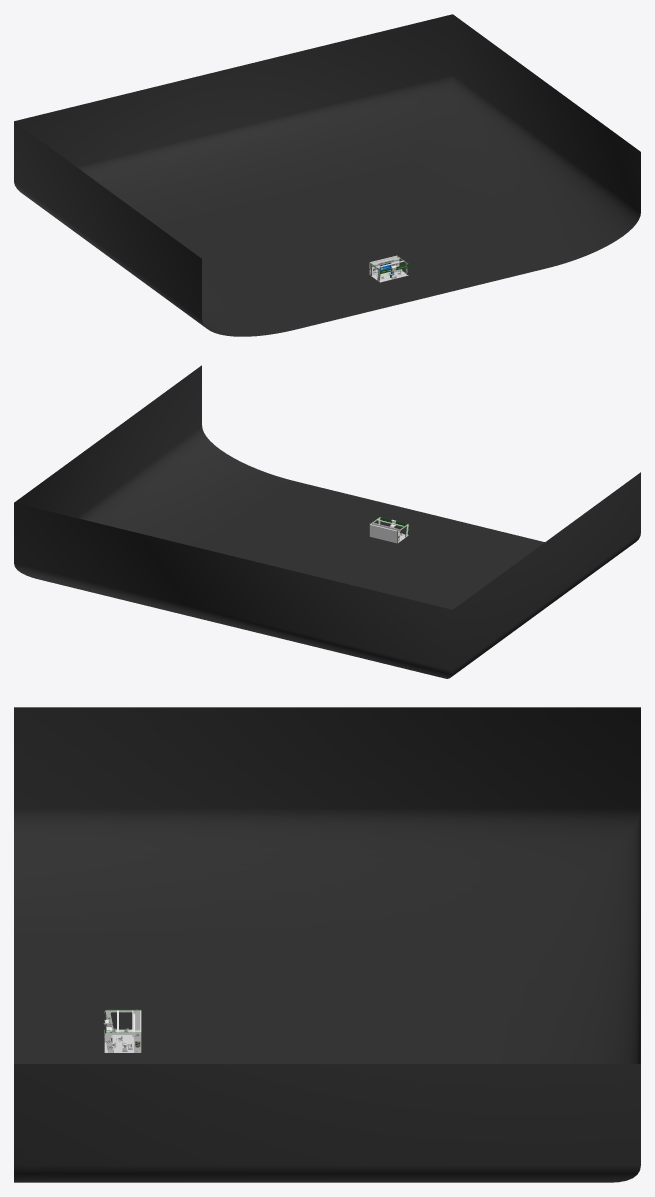
File: stall.glb
3 views of the same model, one above another, from view 1: azimuth 30°, elevation 25°; view 2: azimuth 150°, elevation 25°; view 3: azimuth 270°, elevation 25° (orthographic). The views are drawn at different scales.
Parts seen in each view (by area): view 1: Cube.019; view 2: Cube.019, Cube; view 3: Cube.019, Cube.
Part boxes in pixels (left/top/right/bottom): Cube.019: left=14, top=14, right=640, bottom=336; Cube.019: left=14, top=365, right=640, bottom=678; Cube: left=369, top=517, right=408, bottom=543; Cube.019: left=14, top=707, right=640, bottom=1182; Cube: left=104, top=1009, right=141, bottom=1052.
Size of the model in its own units: 140 by 28.48 by 104.
22 materials, 3 textured.
